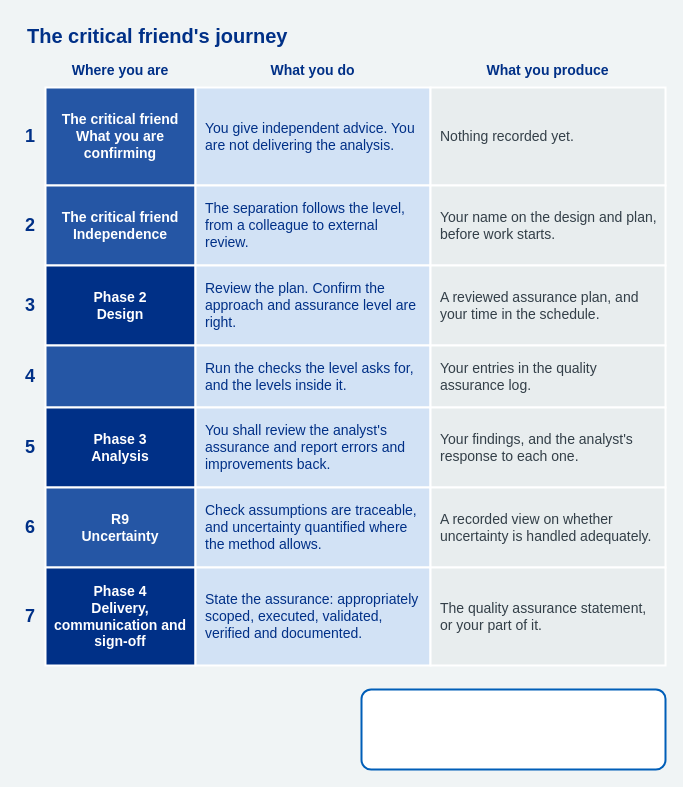
The diagram is 683 pixels wide and 787 high, and some of its shapes have lost their labels. The centre of each missing label's shape, as x and y in pixels:
"After the last step What you report back is what the next piece of work avoids." belongs at pixel 513 729.
"The checks, by level" belongs at pixel 120 376.
